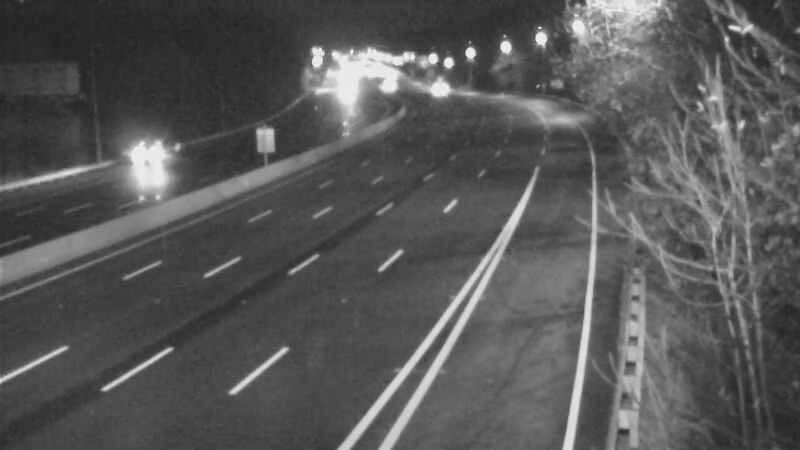vehicle: (101, 117, 181, 197), (359, 58, 409, 108), (408, 63, 458, 113)
